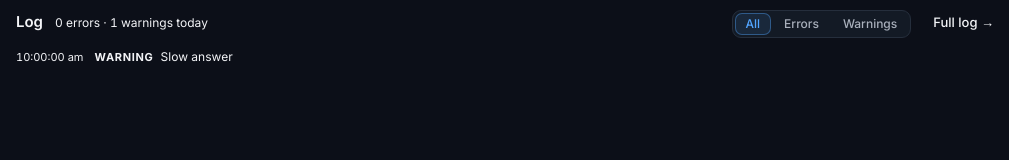
Test: System: Log › says "Nothing at this level." when the chosen level has no entries
This screenshot has width=1009, height=160.
Expected: the text "Slow answer" is shown, [161,49,233,64]
Click the radio button labelled "Errors".
click(802, 24)  # box [773,13,830,35]
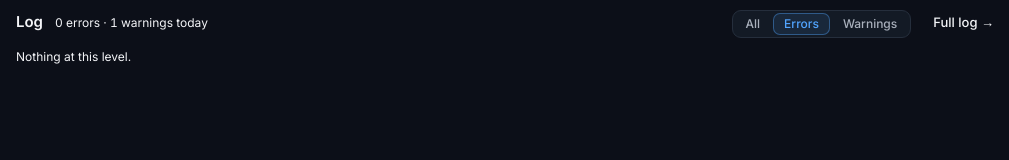
Expected: the list item "Nothing at this level." is shown, [16,49,131,64]
